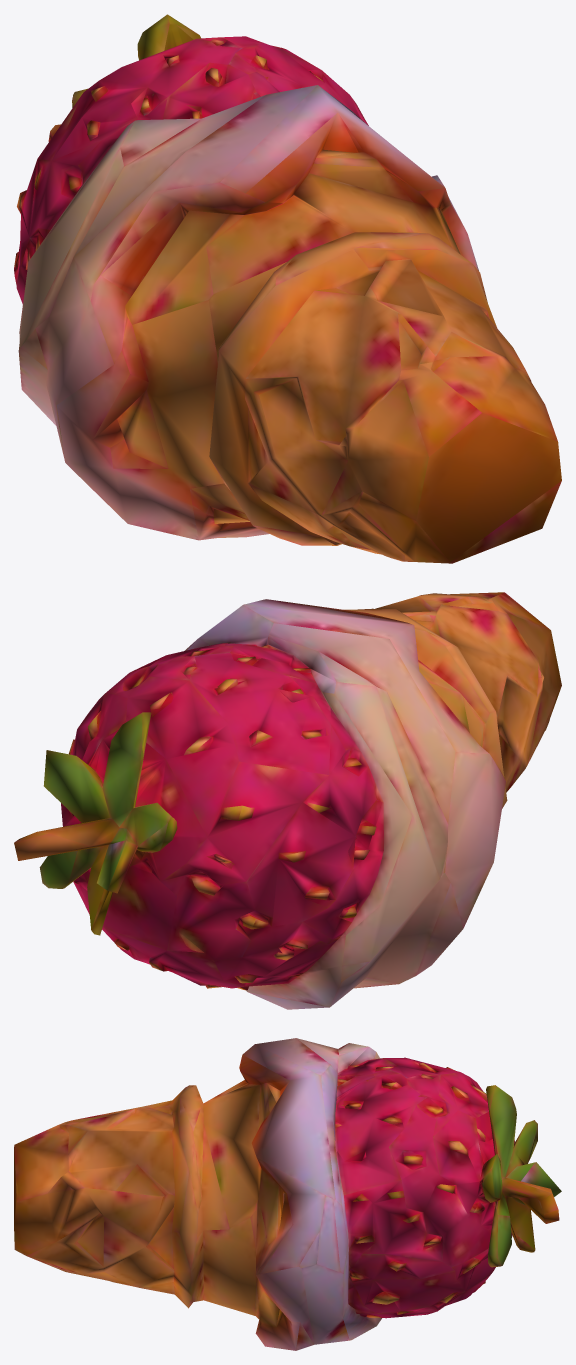
3 renders of one model, top to bottom at view 1: azimuth 30°, elevation 25°; view 2: azimuth 150°, elevation 25°; view 3: azimuth 270°, elevation 25°, orthographic. The views are drawn at different scales.
Visible parts, largest first — view 1: material; view 2: material; view 3: material.
Boxes of the visible parts, box(x1,y1,x2,y2) form: material: box(14, 14, 561, 563); material: box(14, 592, 561, 1009); material: box(14, 1038, 561, 1350).
Size of the model in its own units: 0.5846 by 0.5642 by 1.
Materials: 1 (1 with a texture image).
